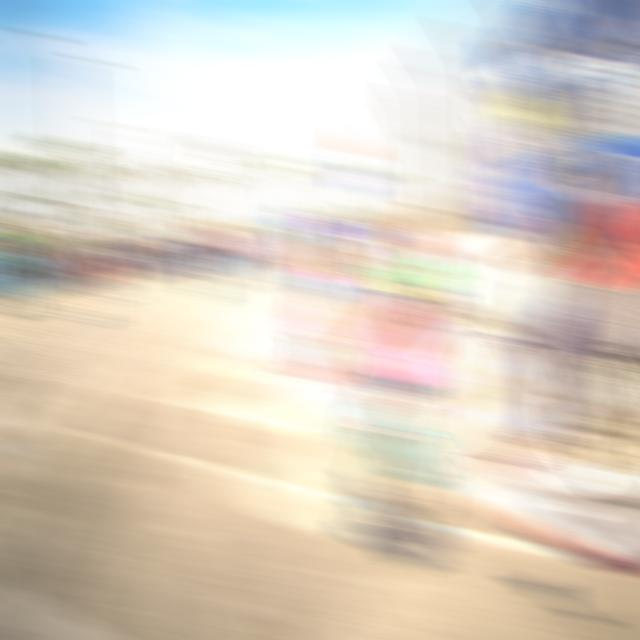With Helmet: (368, 244, 433, 302), (302, 208, 345, 247)
Without Helmet: (552, 134, 614, 200)
